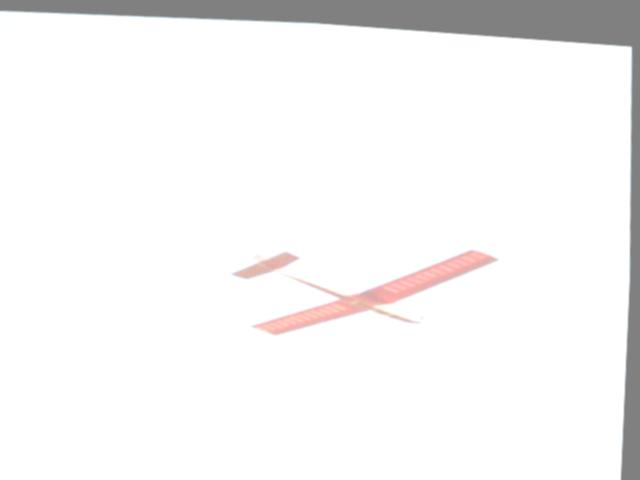iha: (224, 216, 517, 355)
